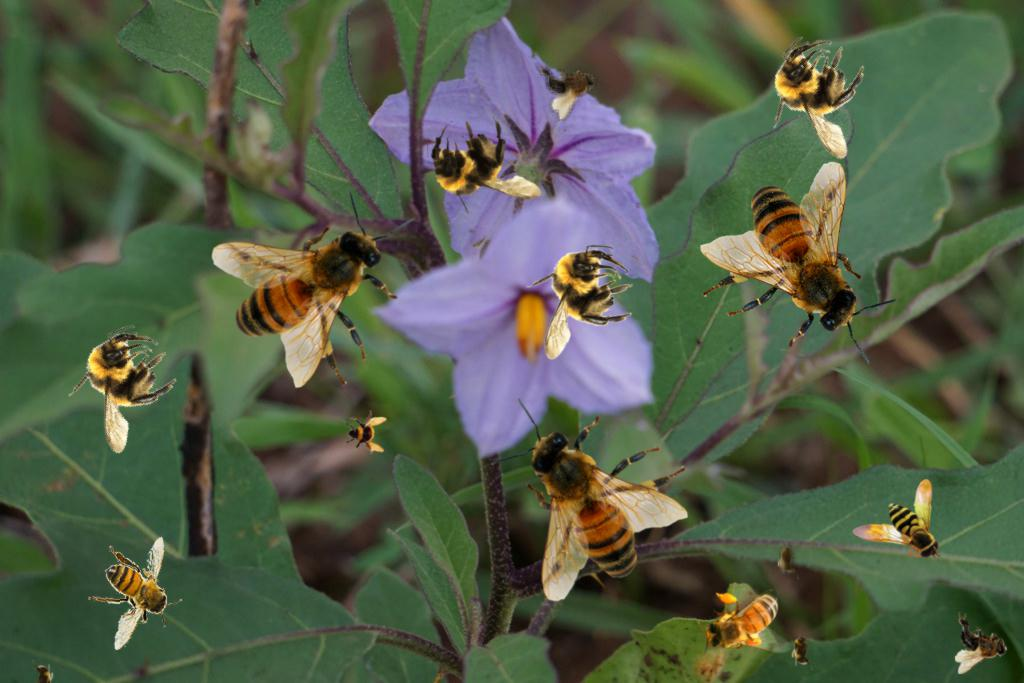Bee: (211, 189, 415, 388), (700, 161, 899, 365), (489, 398, 688, 602), (742, 20, 899, 177), (51, 315, 196, 464), (424, 111, 545, 224), (526, 245, 633, 360), (83, 535, 186, 653), (850, 478, 942, 564), (698, 589, 791, 657), (532, 45, 607, 123), (955, 612, 1008, 674), (343, 410, 387, 454), (777, 539, 799, 579), (791, 630, 813, 670), (32, 660, 54, 683)
